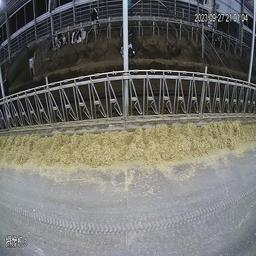cow: (128, 26, 141, 59), (88, 6, 100, 36), (70, 25, 85, 47), (208, 28, 223, 47), (51, 31, 66, 49)
